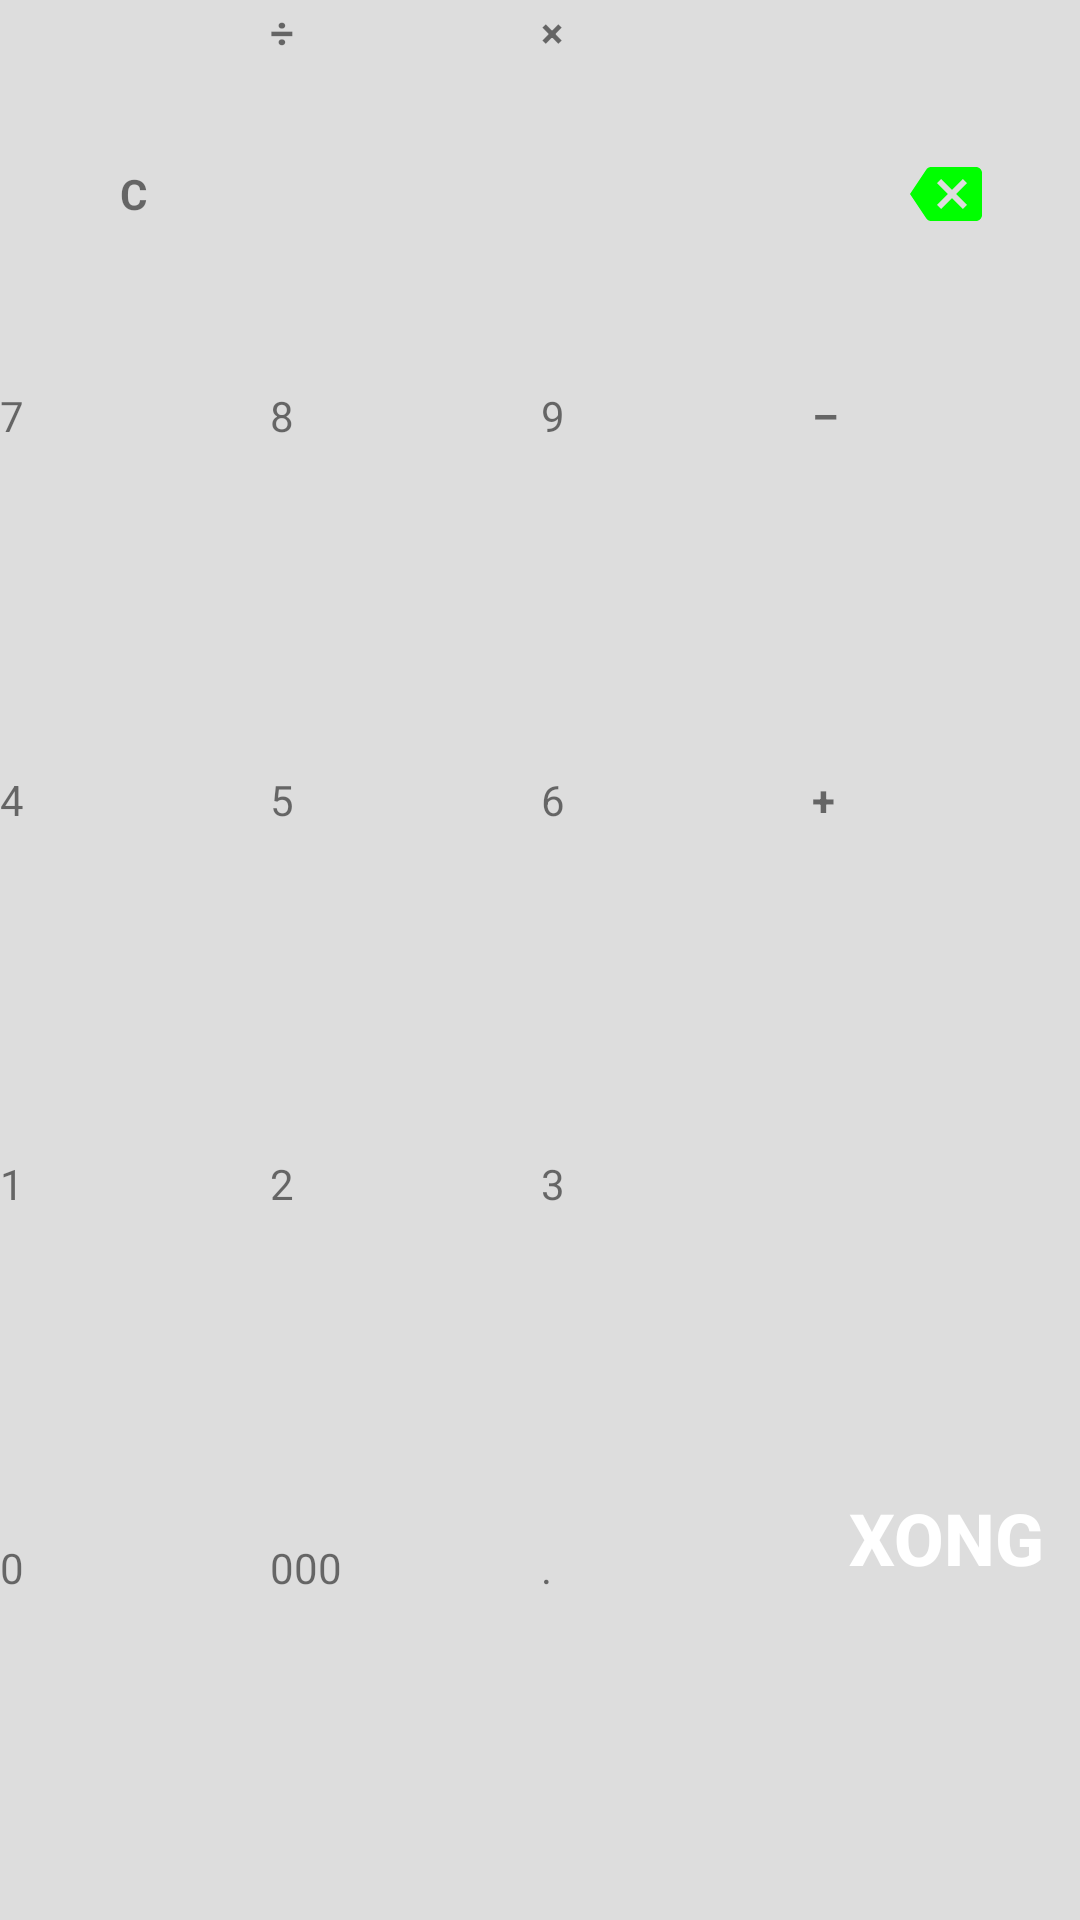

Screen size 1080 x 1920. Icon name, then its center in pixels as (x=x, y=y):
backspace: (x=946, y=194)
